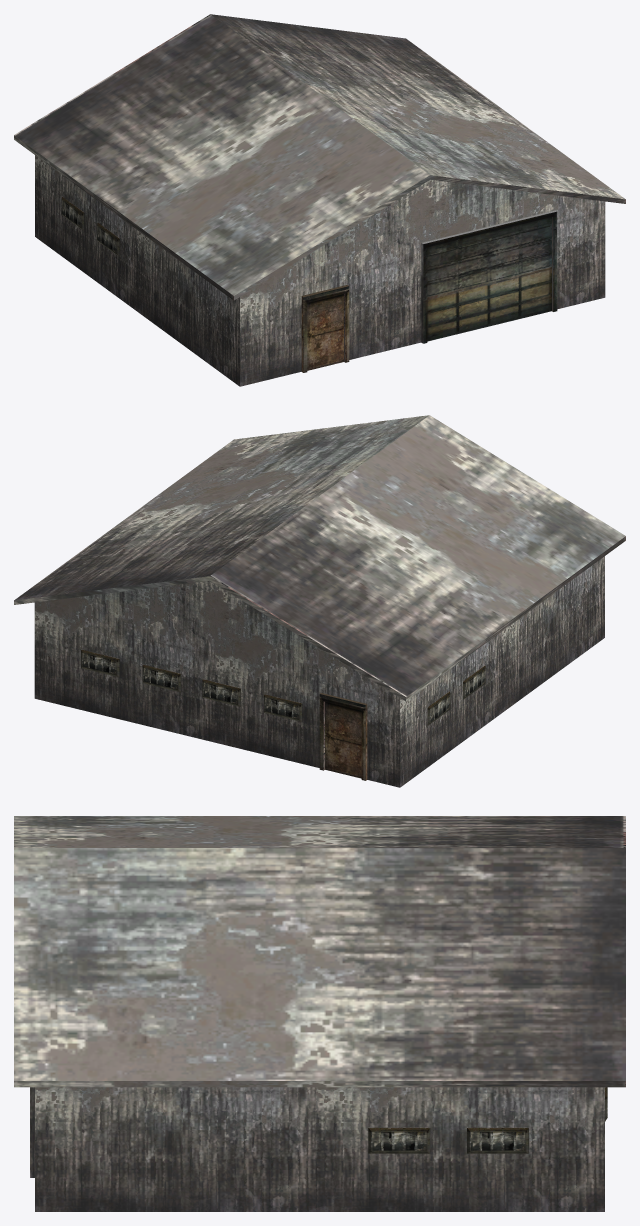
File: warehs03.glb
3 renders of one model, top to bottom at view 1: azimuth 30°, elevation 25°; view 2: azimuth 150°, elevation 25°; view 3: azimuth 270°, elevation 25°, orthographic. The views are drawn at different scales.
Parts seen in each view (by area): view 1: _warehs03; view 2: _warehs03; view 3: _warehs03.
Part boxes in pixels (x1,y1,x2,y2): _warehs03: (14, 14, 625, 386); _warehs03: (14, 415, 625, 787); _warehs03: (14, 816, 625, 1211).
Size of the model in its own units: 15.75 by 6.62 by 15.3.
Materials: 1 (1 with a texture image).
